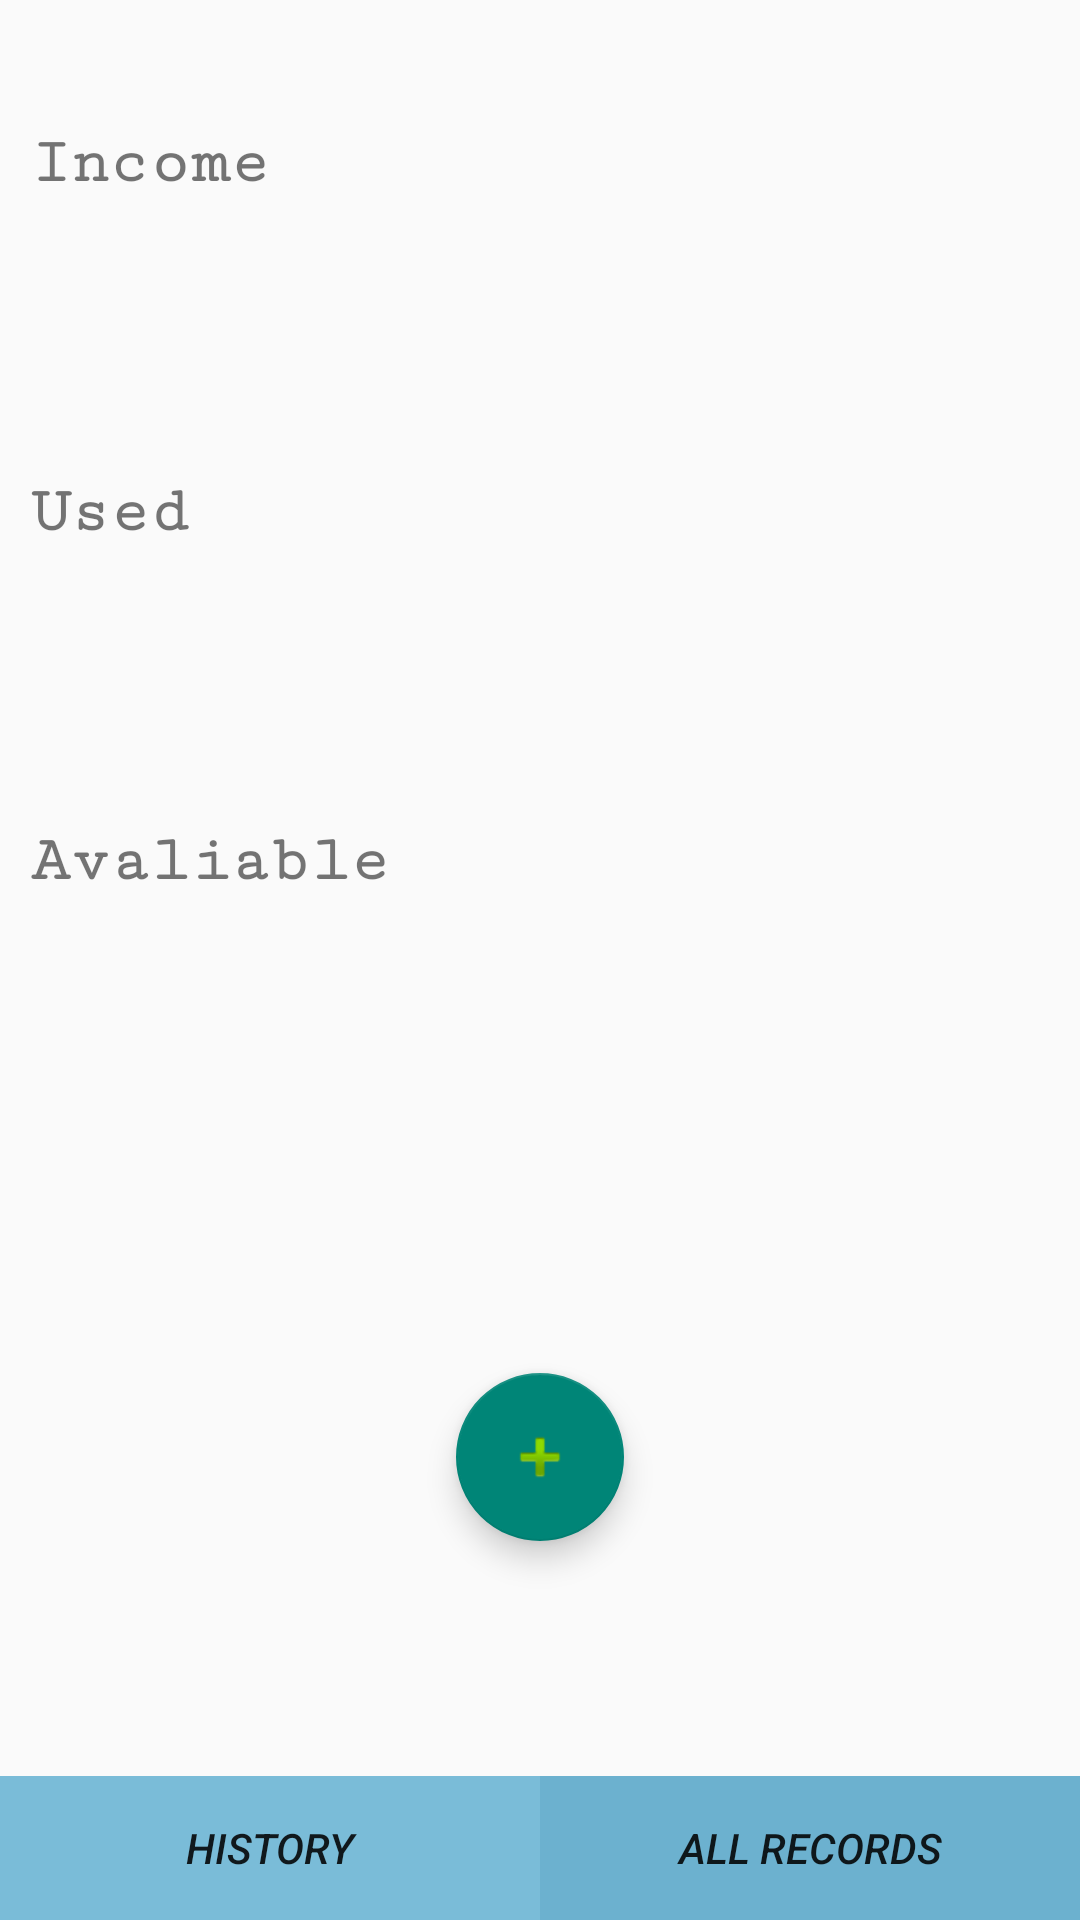

Icon click points for this 1080x1920 phone screenshot, format (x=x, y=y):
add: (x=540, y=1457)
